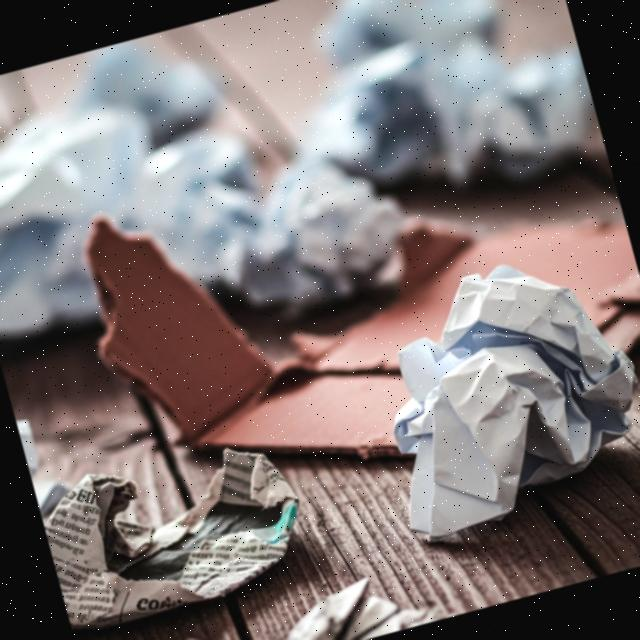paper: (344, 246, 640, 557), (35, 427, 322, 640), (179, 562, 440, 640)
